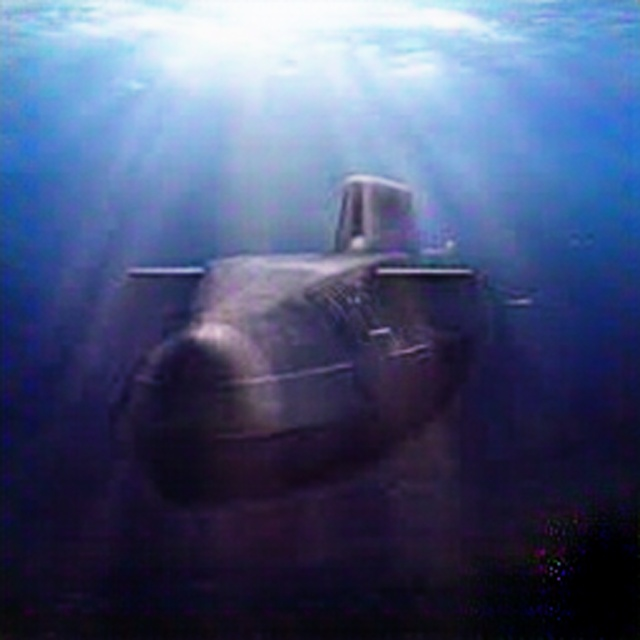submarine: (113, 165, 523, 518)
